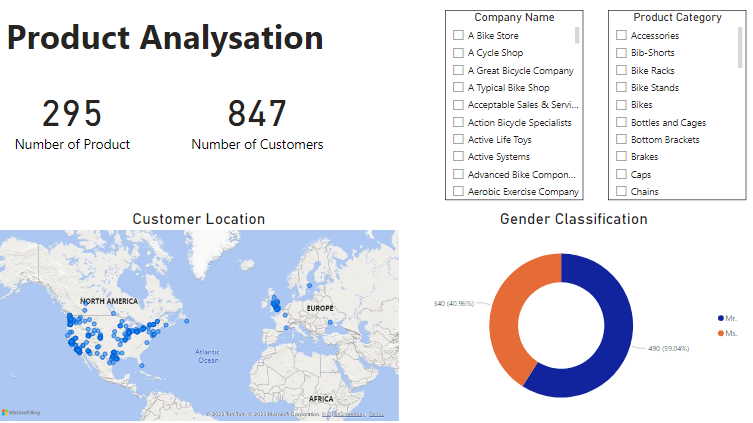

What the dashboard file says about the page in this screenshot:
{"tool":"powerbi","page":{"name":"product","canvas":[1280,720],"ordinal":0},"visuals":[{"type":"map","title":"Customer Location","fields":{"Category":["Address.City"]},"box":[0,359.3,681.1,360.7],"z":0},{"type":"card","fields":{"Values":["CountNonNull(Product.Product_ID)"]},"box":[11.7,139.2,231.5,130.9],"z":1000},{"type":"card","fields":{"Values":["CountNonNull(Customer.Customer_ID)"]},"box":[322.1,139.2,231.5,130.9],"z":2000},{"type":"slicer","title":"Product Category","fields":{"Values":["ProductCategory.Name"]},"box":[1026.7,25.2,231.5,318.7],"z":3000},{"type":"donutChart","title":"Gender Classification","fields":{"Category":["Customer.Title"],"Y":["CountNonNull(Customer.Title)"]},"box":[681.1,359,577.1,360.7],"z":4000},{"type":"textbox","box":[11.7,25.2,563.7,88.9],"z":4001},{"type":"slicer","title":"Company Name","fields":{"Values":["Customer.Company_Name"]},"box":[753.2,25.2,231.5,318.7],"z":4002}]}

Visuals, with their boxes in screenshot pixels (x1, y1, x2, y2), scaled from the page's 1280x720 canvas onto the 753x423 screenshot:
"Customer Location" map: region(0, 211, 401, 422)
card - CountNonNull(Product.Product_ID): region(7, 82, 143, 159)
card - CountNonNull(Customer.Customer_ID): region(189, 82, 326, 159)
"Product Category" slicer: region(604, 15, 740, 202)
"Gender Classification" donutChart: region(401, 211, 740, 422)
textbox: region(7, 15, 338, 67)
"Company Name" slicer: region(443, 15, 579, 202)
